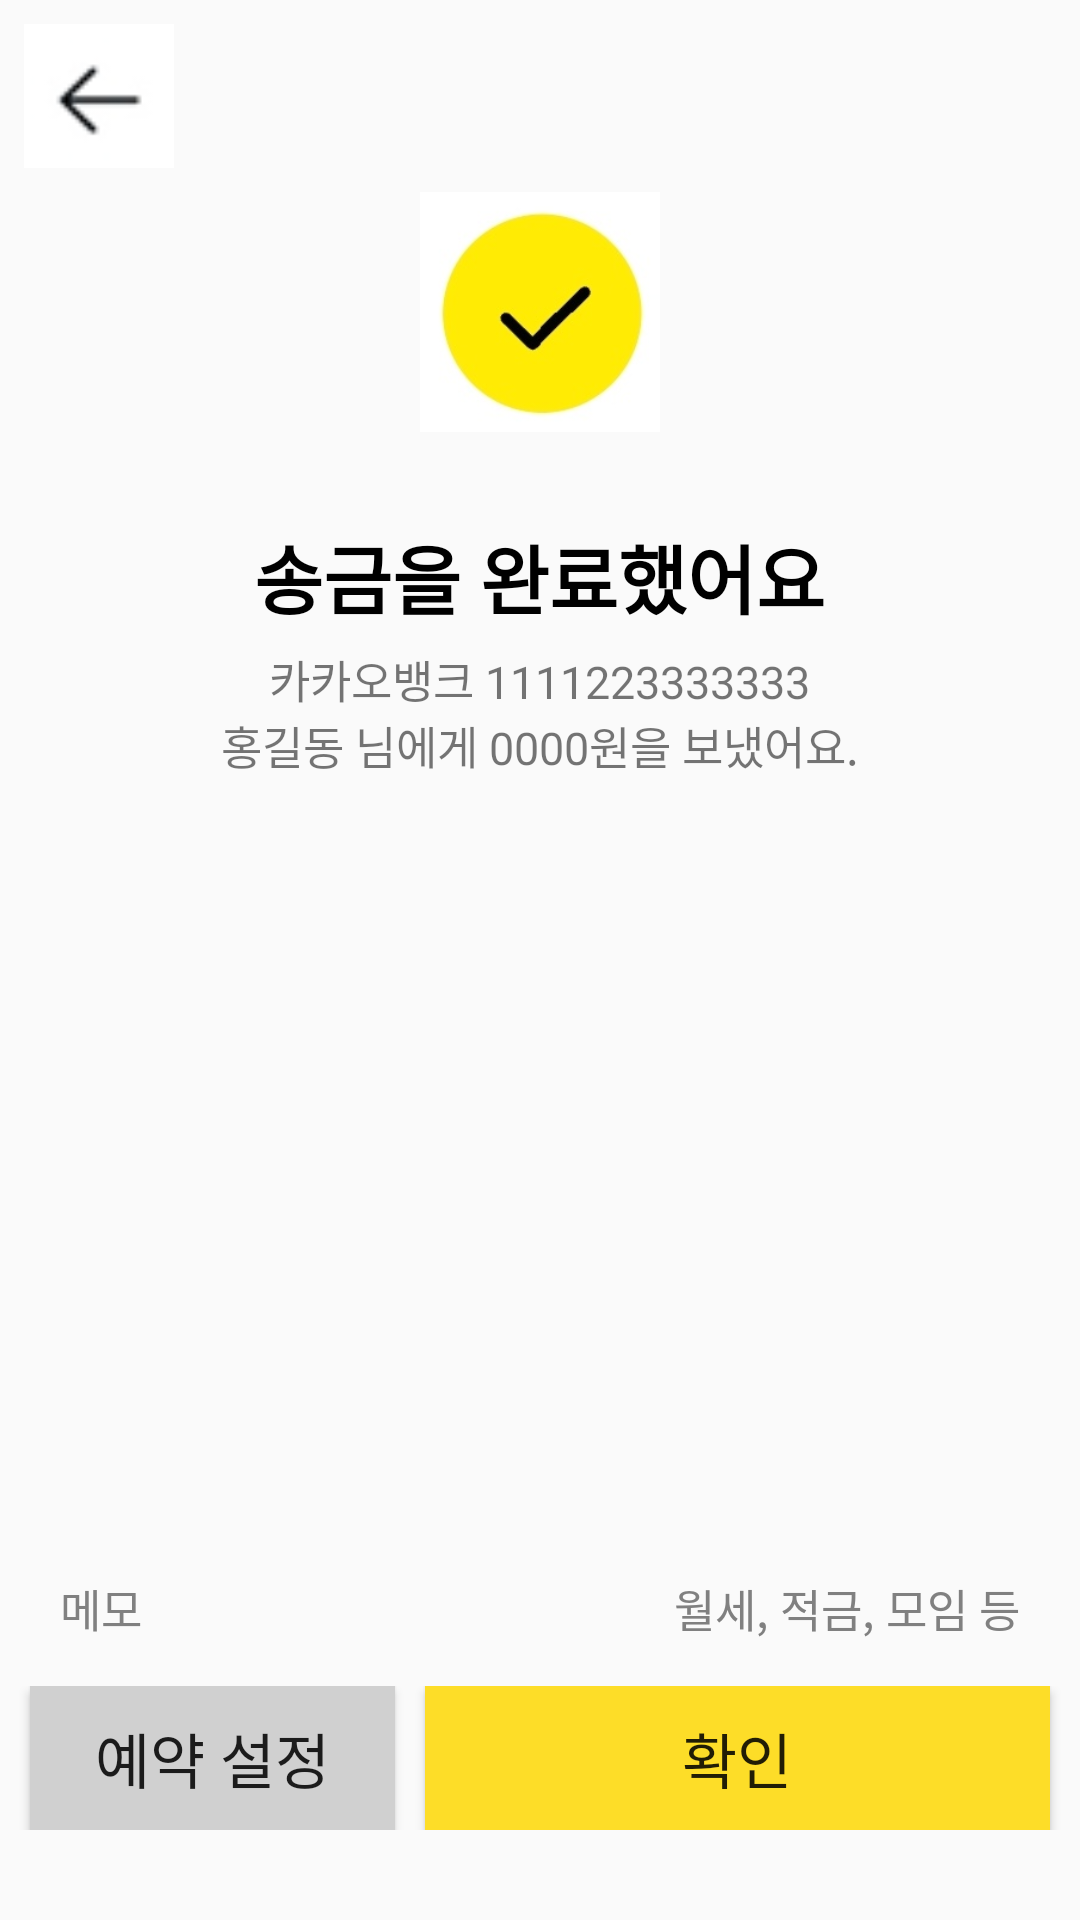

Where icons sit on this 1080 x 1920 app screen, as (x1,y1,x2,y2):
check: (440,212,644,416)
뒤로가기: (57,65,141,135)
